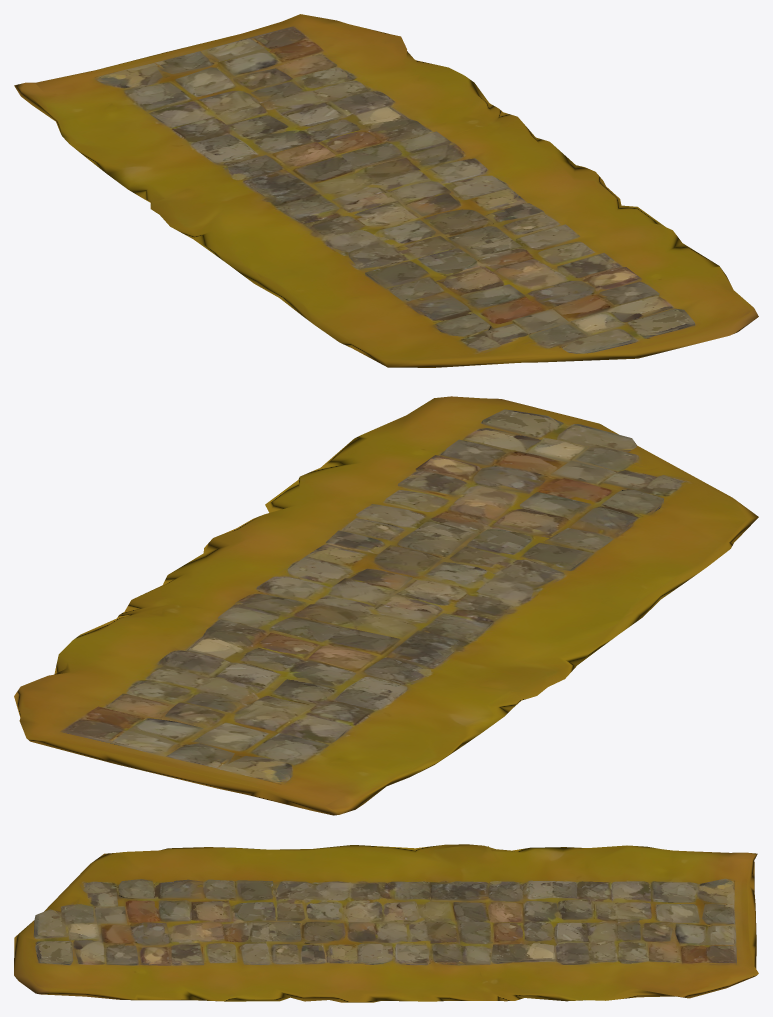
File: tripo_cobble_road_panel.glb
3 views of the same model, one above another, from view 1: azimuth 30°, elevation 25°; view 2: azimuth 150°, elevation 25°; view 3: azimuth 270°, elevation 25° (orthographic). The views are drawn at different scales.
Parts seen in each view (by area): view 1: cobble_road_panel; view 2: cobble_road_panel; view 3: cobble_road_panel.
Part boxes in pixels (x1,y1,x2,y2): cobble_road_panel: (14, 14, 758, 367); cobble_road_panel: (14, 396, 758, 815); cobble_road_panel: (14, 844, 758, 1002).
Size of the model in its own units: 2 by 0.06 by 4.
1 material, 1 textured.
